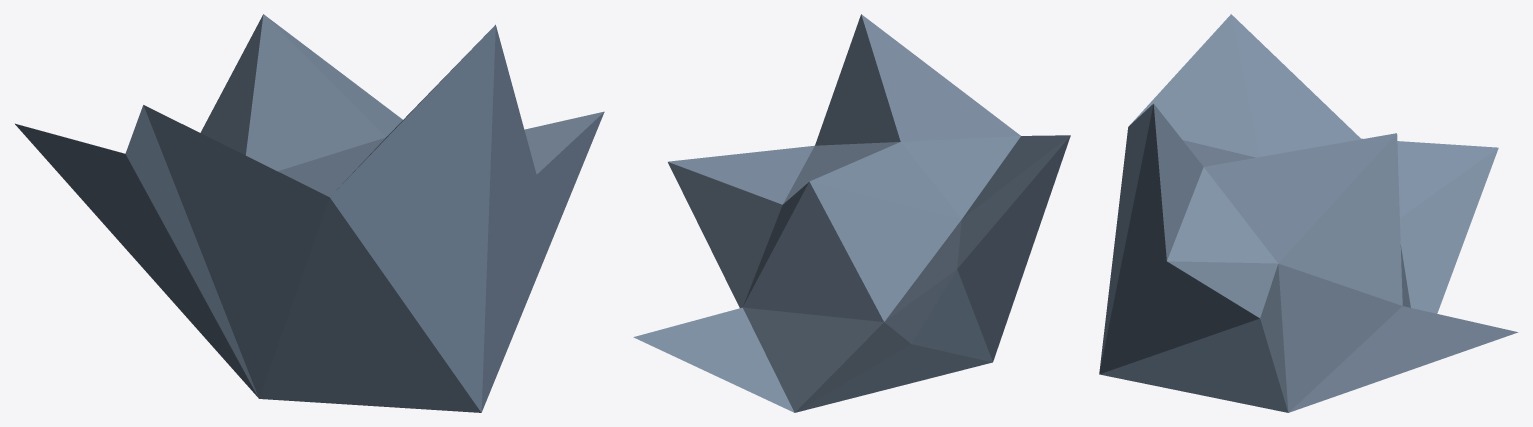
File: BushWinter1.fbx
The picture shows the model from 3 angles, left to right: view 1: azimuth 30°, elevation 25°; view 2: azimuth 150°, elevation 25°; view 3: azimuth 270°, elevation 25°; orthographic projection. The views are drawn at different scales.
Parts seen in each view (by area): view 1: BushWinter1; view 2: BushWinter1; view 3: BushWinter1.
Part boxes in pixels (x1=…): BushWinter1: x1=15, y1=14, x2=604, y2=412; BushWinter1: x1=633, y1=14, x2=1070, y2=412; BushWinter1: x1=1099, y1=14, x2=1518, y2=412.
Size of the model in its own units: 0.6828 by 0.4811 by 0.6299.
